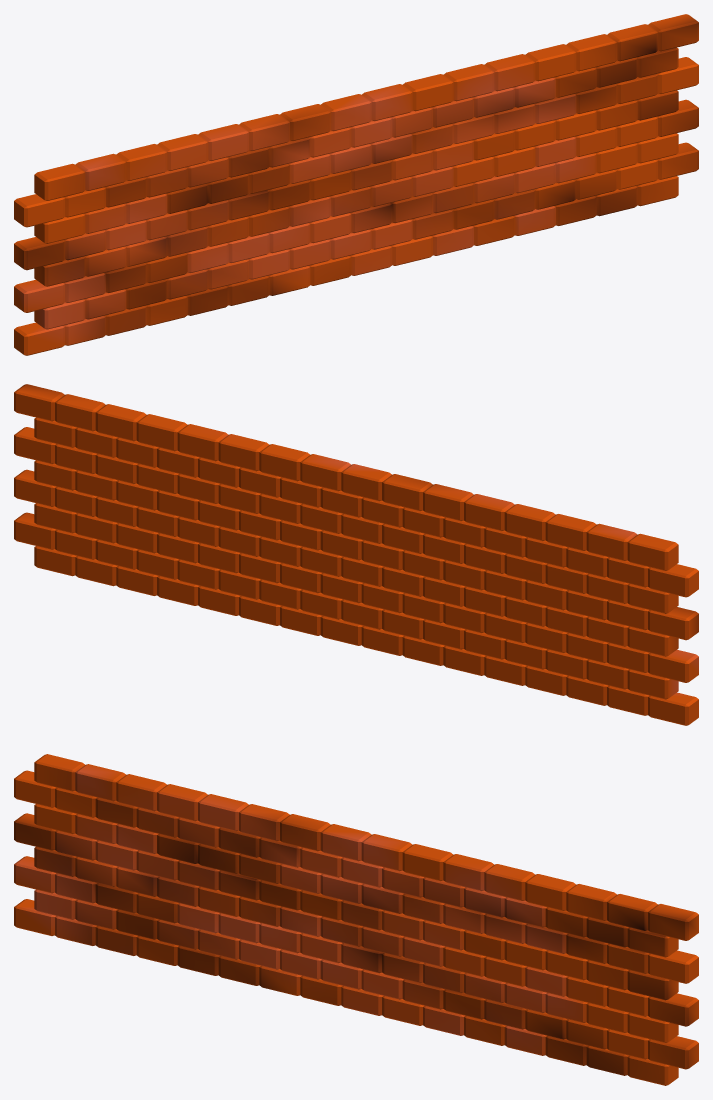
File: brick texture.fbx
The picture shows the model from 3 angles, top to bottom: view 1: azimuth 30°, elevation 25°; view 2: azimuth 150°, elevation 25°; view 3: azimuth 330°, elevation 25°; orthographic projection.
Parts seen in each view (by area): view 1: Cube.002; view 2: Cube.002; view 3: Cube.002.
Boxes of the visible parts, <box> form: Cube.002: <box>14,14,698,355</box>; Cube.002: <box>14,384,698,725</box>; Cube.002: <box>14,754,698,1085</box>.
Size of the model in its own units: 6600 by 1600 by 200.
